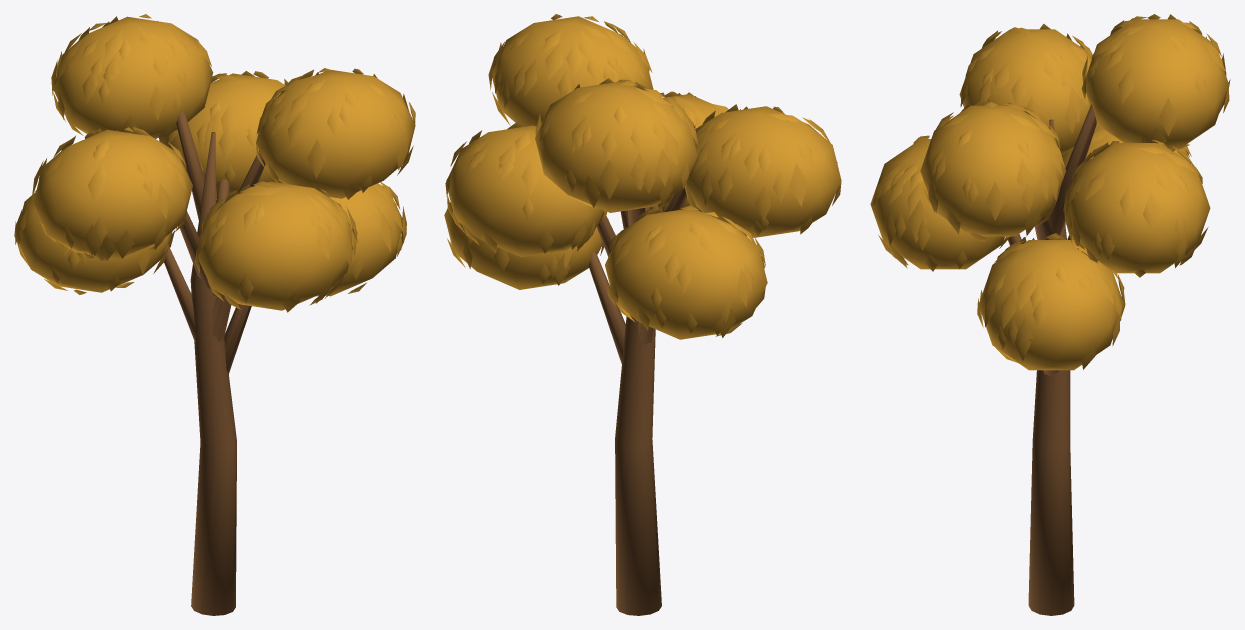
Rendered from SM_Env_Tree_02.fbx.
3 renders of one model, left to right at view 1: azimuth 30°, elevation 25°; view 2: azimuth 150°, elevation 25°; view 3: azimuth 270°, elevation 25°, orthographic. The views are drawn at different scales.
Visible parts, largest first — view 1: Crown_inner_volume.011, Crown_inner_volume.009, Tree_trunk.001, Crown_inner_volume.012, Crown_inner_volume.013, Crown_inner_volume.010, Crown_inner_volume.008, Leaves.028, Leaves.024, Leaves.027, Leaves.026, Crown_inner_volume.007 (+8 smaller); view 2: Crown_inner_volume.008, Crown_inner_volume.013, Crown_inner_volume.011, Tree_trunk.001, Crown_inner_volume.010, Crown_inner_volume.012, Leaves.028, Leaves.026, Leaves.023, Leaves.027, Crown_inner_volume.007, Leaves.025 (+4 smaller); view 3: Crown_inner_volume.013, Crown_inner_volume.010, Crown_inner_volume.012, Crown_inner_volume.007, Tree_trunk.001, Crown_inner_volume.011, Crown_inner_volume.009, Leaves.027, Leaves.022, Leaves.025, Leaves.026, Leaves.028 (+2 smaller).
Part boxes in pixels (<box>): Crown_inner_volume.011: <box>33,129,192,258</box>; Crown_inner_volume.009: <box>197,181,355,310</box>; Tree_trunk.001: <box>190,132,236,615</box>; Crown_inner_volume.012: <box>256,70,415,198</box>; Crown_inner_volume.013: <box>53,16,213,138</box>; Crown_inner_volume.010: <box>161,73,285,197</box>; Crown_inner_volume.008: <box>19,192,172,292</box>; Leaves.028: <box>51,14,211,142</box>; Leaves.024: <box>195,181,357,312</box>; Leaves.027: <box>256,68,415,199</box>; Leaves.026: <box>32,126,186,261</box>; Crown_inner_volume.007: <box>283,183,402,296</box>; Crown_inner_volume.008: <box>605,209,767,339</box>; Crown_inner_volume.013: <box>535,81,697,212</box>; Crown_inner_volume.011: <box>684,106,841,237</box>; Tree_trunk.001: <box>615,207,661,615</box>; Crown_inner_volume.010: <box>448,125,603,257</box>; Crown_inner_volume.012: <box>492,16,653,126</box>; Leaves.028: <box>535,78,698,207</box>; Leaves.026: <box>685,104,841,235</box>; Leaves.023: <box>607,205,765,337</box>; Leaves.027: <box>488,14,652,125</box>; Crown_inner_volume.007: <box>444,202,602,289</box>; Leaves.025: <box>445,121,607,253</box>; Crown_inner_volume.013: <box>1085,19,1228,149</box>; Crown_inner_volume.010: <box>1069,143,1210,273</box>; Crown_inner_volume.012: <box>920,105,1065,236</box>; Crown_inner_volume.007: <box>978,240,1124,370</box>; Tree_trunk.001: <box>1028,119,1074,615</box>; Crown_inner_volume.011: <box>959,29,1091,154</box>; Crown_inner_volume.009: <box>870,139,1004,269</box>; Leaves.027: <box>923,100,1064,241</box>; Leaves.022: <box>977,233,1125,369</box>; Leaves.025: <box>1063,140,1208,277</box>; Leaves.026: <box>960,23,1092,133</box>; Leaves.028: <box>1081,14,1230,151</box>.
Size of what is drawn, in the model's own units: 142 by 121 by 210.
